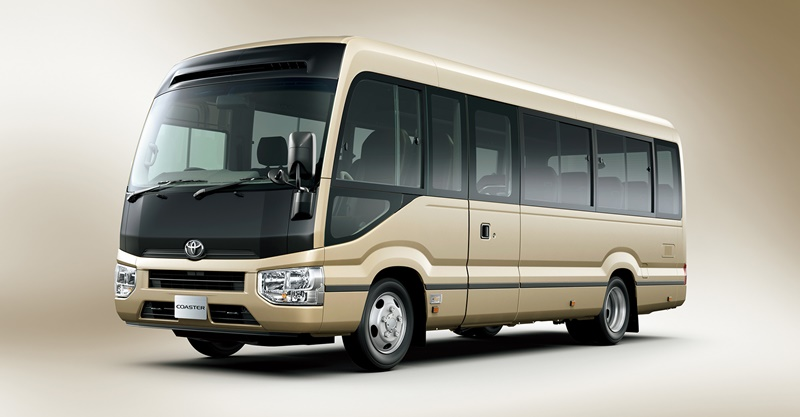bus: (113, 33, 691, 373)
